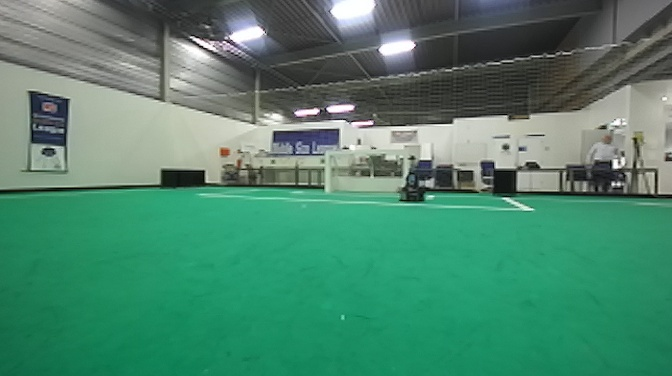goal: (323, 148, 413, 200)
robot: (398, 154, 426, 203)
